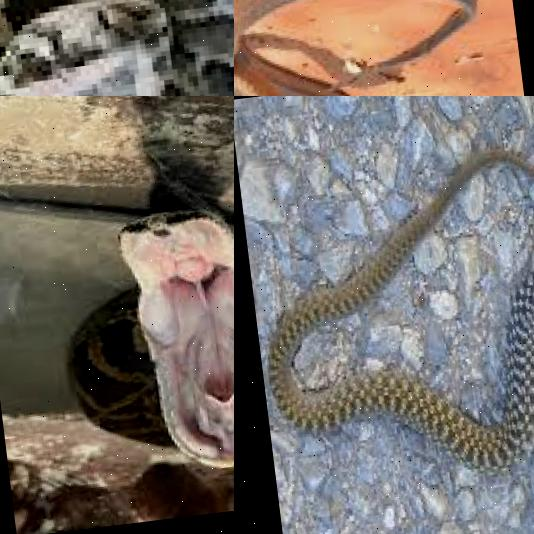snake: (252, 100, 534, 492), (52, 209, 234, 505), (0, 0, 234, 96), (234, 0, 460, 96)
